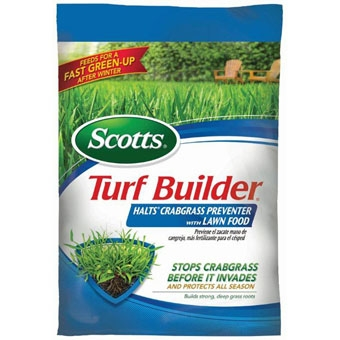crabgrass: (70, 235, 154, 284)
